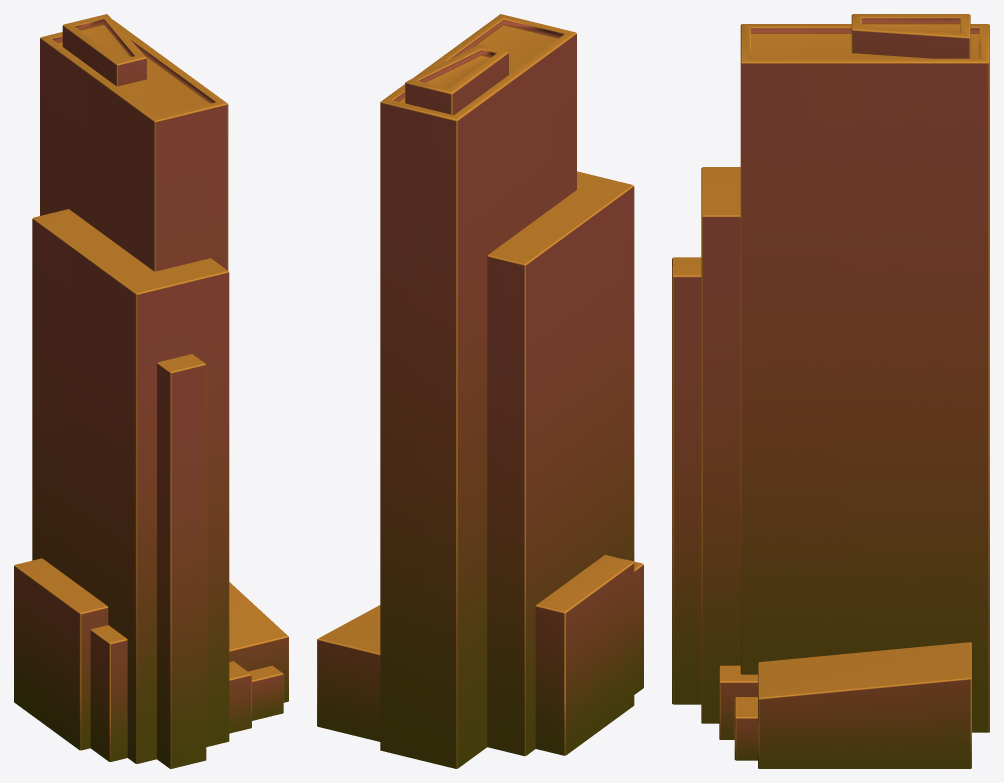
Rendered from prop_BuildingLarge02.fbx.
3 renders of one model, left to right at view 1: azimuth 30°, elevation 25°; view 2: azimuth 150°, elevation 25°; view 3: azimuth 270°, elevation 25°, orthographic. The views are drawn at different scales.
Parts seen in each view (by area): view 1: prop_BuildingLarge02; view 2: prop_BuildingLarge02; view 3: prop_BuildingLarge02.
Boxes of the visible parts, bbox=[...] form: prop_BuildingLarge02: bbox=[14, 14, 288, 768]; prop_BuildingLarge02: bbox=[317, 14, 643, 768]; prop_BuildingLarge02: bbox=[672, 14, 989, 768].
Size of the model in its own units: 1829 by 5356 by 2244.
